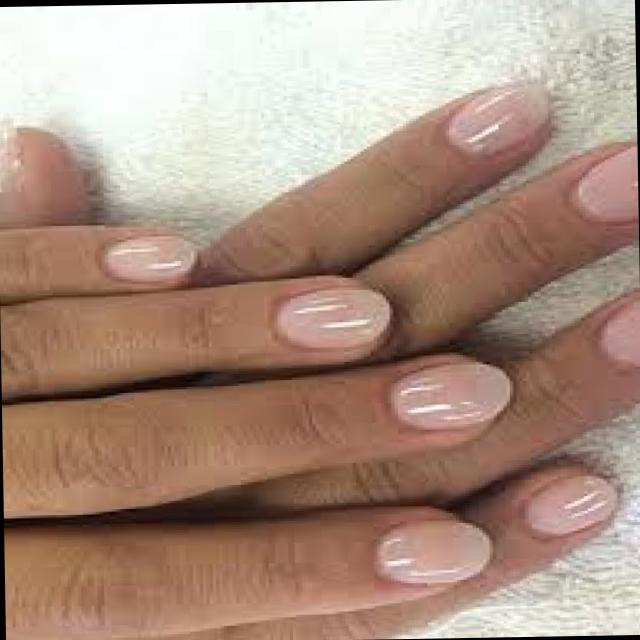Nail: (386, 362, 512, 426), (269, 285, 390, 349), (444, 84, 547, 157), (371, 520, 488, 583), (522, 473, 615, 536), (572, 145, 638, 222), (96, 233, 191, 280), (596, 299, 639, 366), (0, 118, 18, 190)
